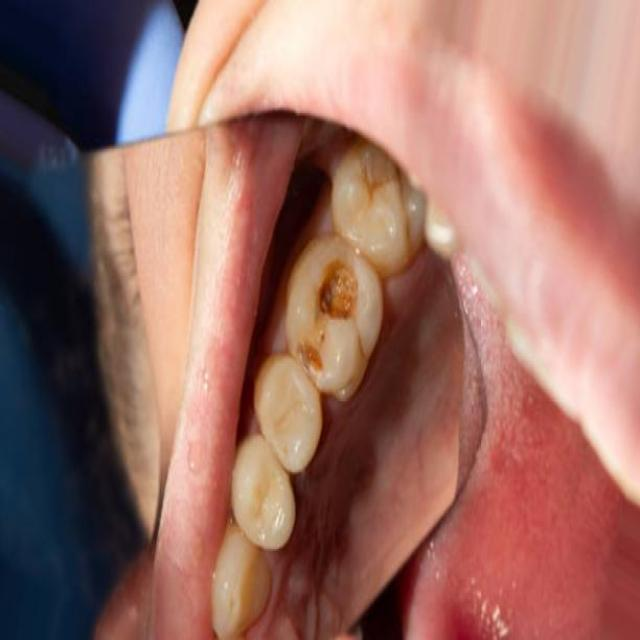caries: (311, 233, 379, 390)
